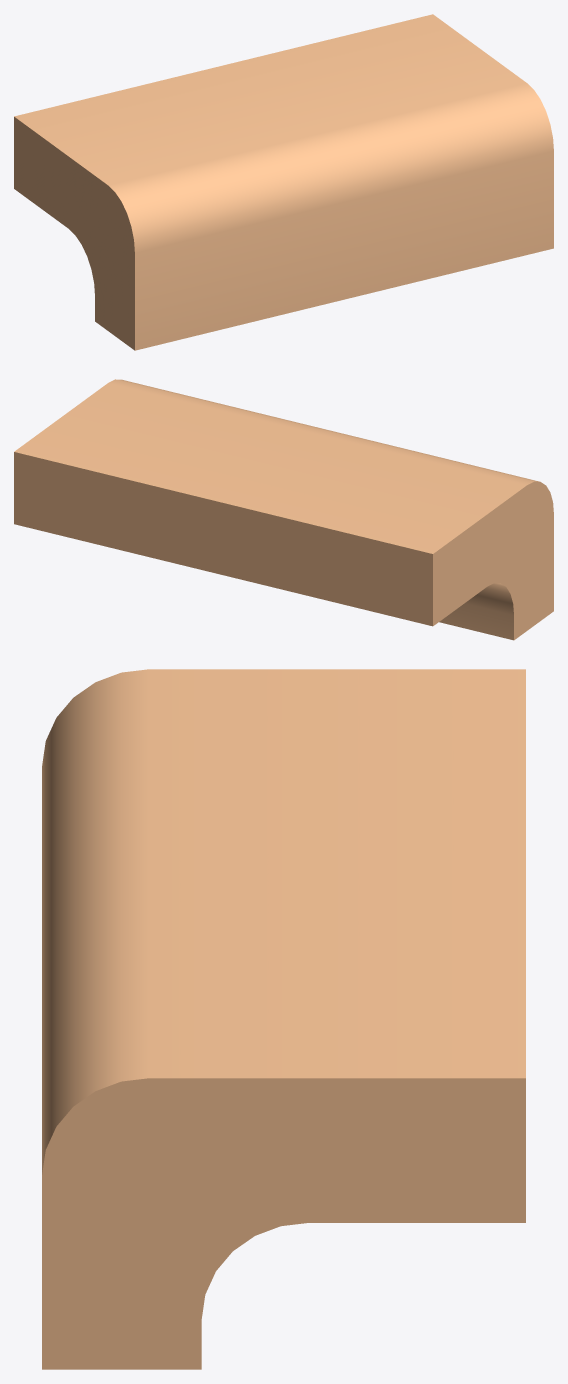
Rendered from Link D L Type.fbx.
The picture shows the model from 3 angles, top to bottom: view 1: azimuth 30°, elevation 25°; view 2: azimuth 150°, elevation 25°; view 3: azimuth 270°, elevation 25°; orthographic projection. The views are drawn at different scales.
Visible parts, largest first — view 1: Link D L Type; view 2: Link D L Type; view 3: Link D L Type.
Boxes of the visible parts, x1,y1,x2,y2 form: Link D L Type: (14, 14, 553, 350); Link D L Type: (14, 379, 553, 640); Link D L Type: (42, 669, 525, 1369).
Size of the model in its own units: 300 by 99.69 by 150.
